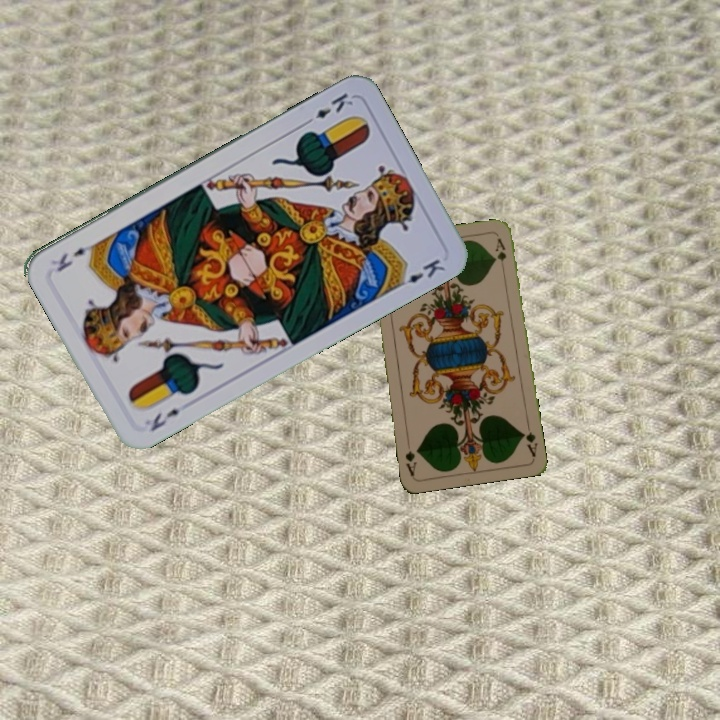EK: (300, 88, 356, 128), (146, 404, 183, 434)
GA: (518, 419, 540, 460)
